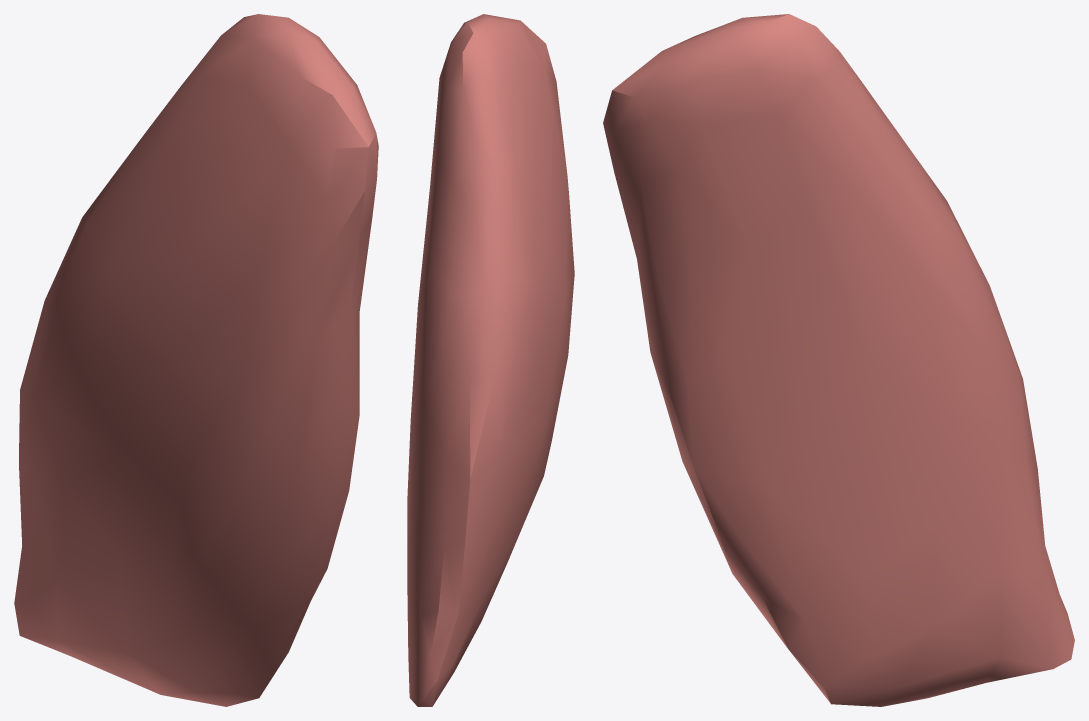
File: fma81580_mm2379m.glb
3 renders of one model, left to right at view 1: azimuth 30°, elevation 25°; view 2: azimuth 150°, elevation 25°; view 3: azimuth 270°, elevation 25°, orthographic. The views are drawn at different scales.
Parts seen in each view (by area): view 1: FMA81580_MM2379M; view 2: FMA81580_MM2379M; view 3: FMA81580_MM2379M.
Boxes of the visible parts, left/top/right/bottom form: FMA81580_MM2379M: left=14, top=14, right=378, bottom=706; FMA81580_MM2379M: left=407, top=14, right=574, bottom=706; FMA81580_MM2379M: left=603, top=14, right=1074, bottom=706.
Bounding box in the file's own units: 0.00508 × 0.019 × 0.0117.
